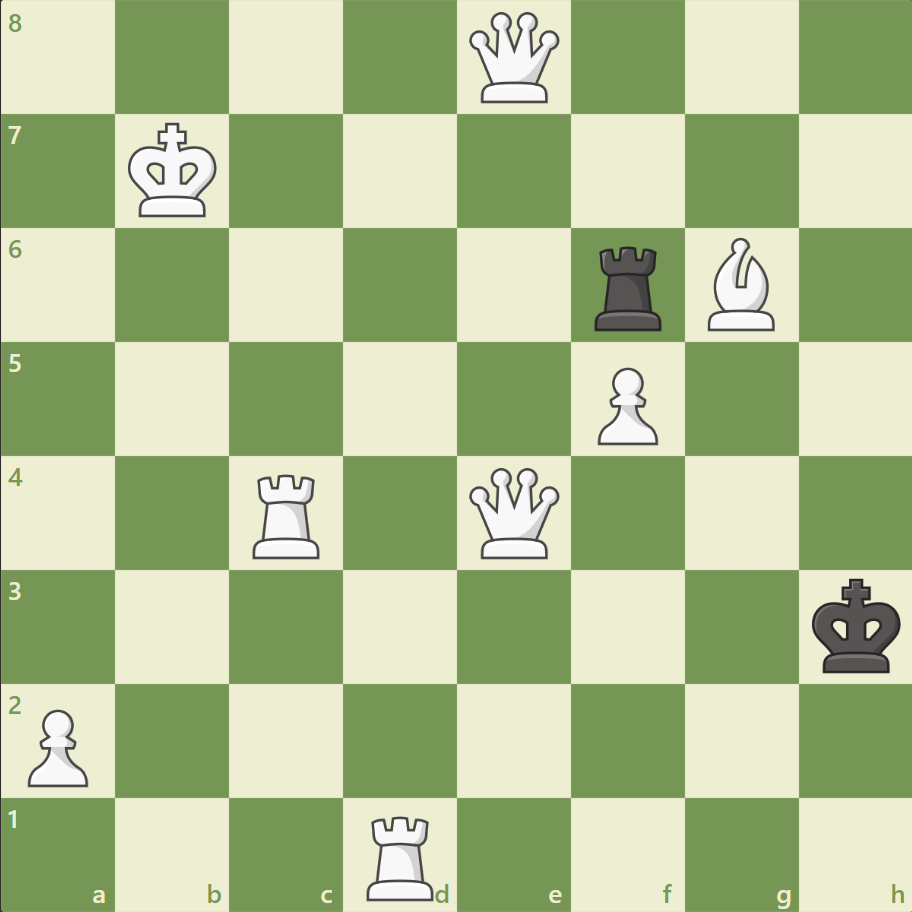B: (698, 233, 782, 336)
K: (124, 117, 224, 225)
P: (20, 700, 95, 791), (588, 359, 662, 450)
Q: (464, 9, 563, 108), (464, 463, 563, 562)
R: (246, 466, 329, 563), (360, 806, 442, 904)
k: (806, 571, 906, 679)
r: (587, 239, 670, 336)
